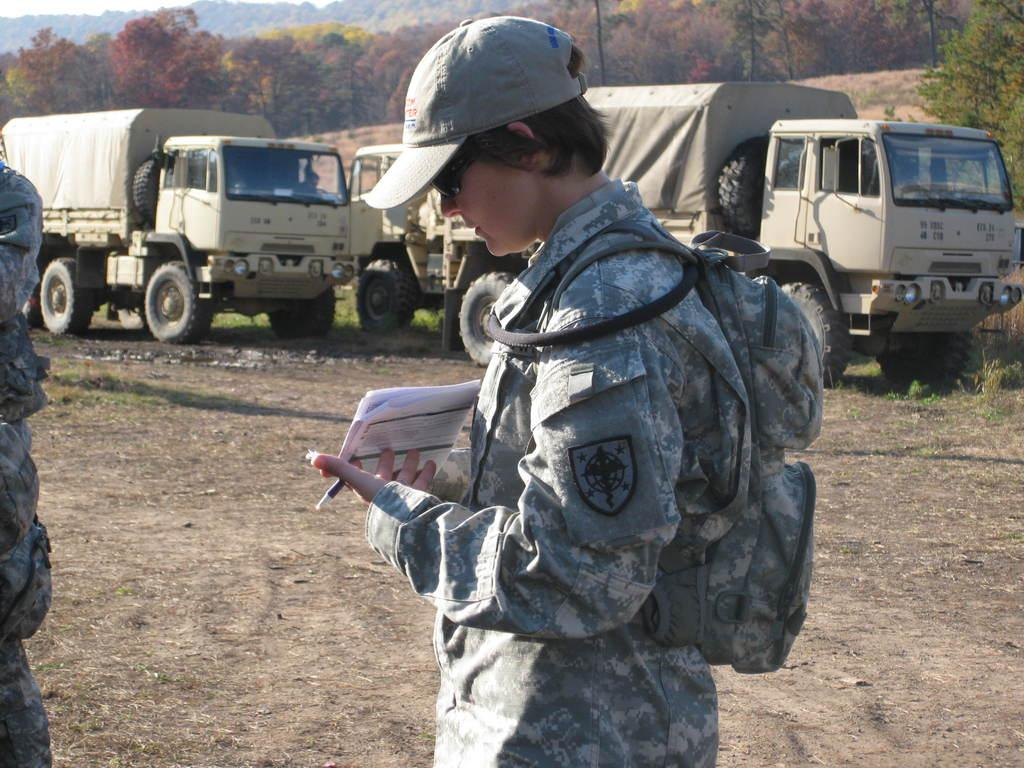Hat: (361, 15, 588, 211)
